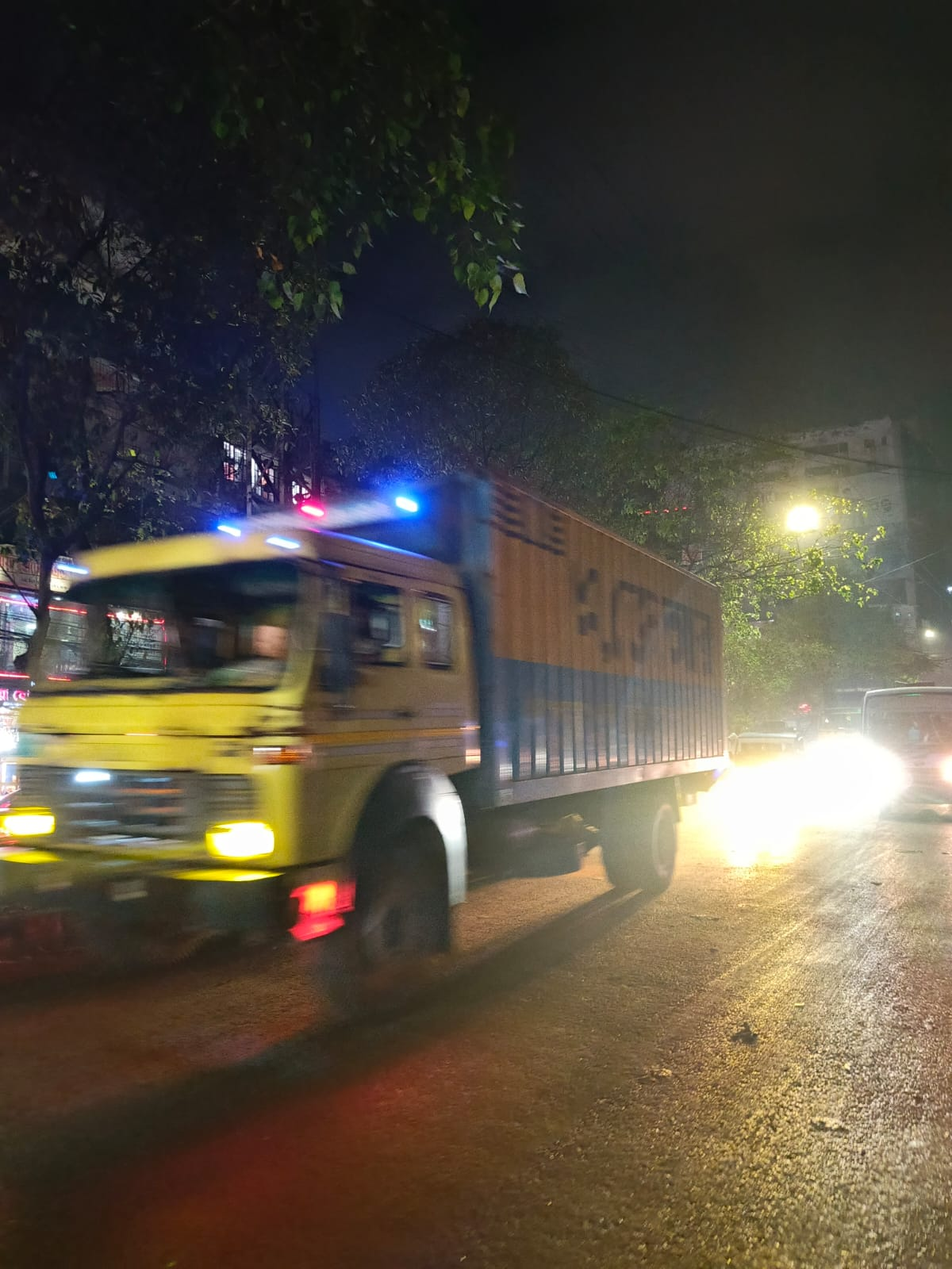Bus: (845, 667, 952, 832)
Truck: (0, 429, 789, 1221)
